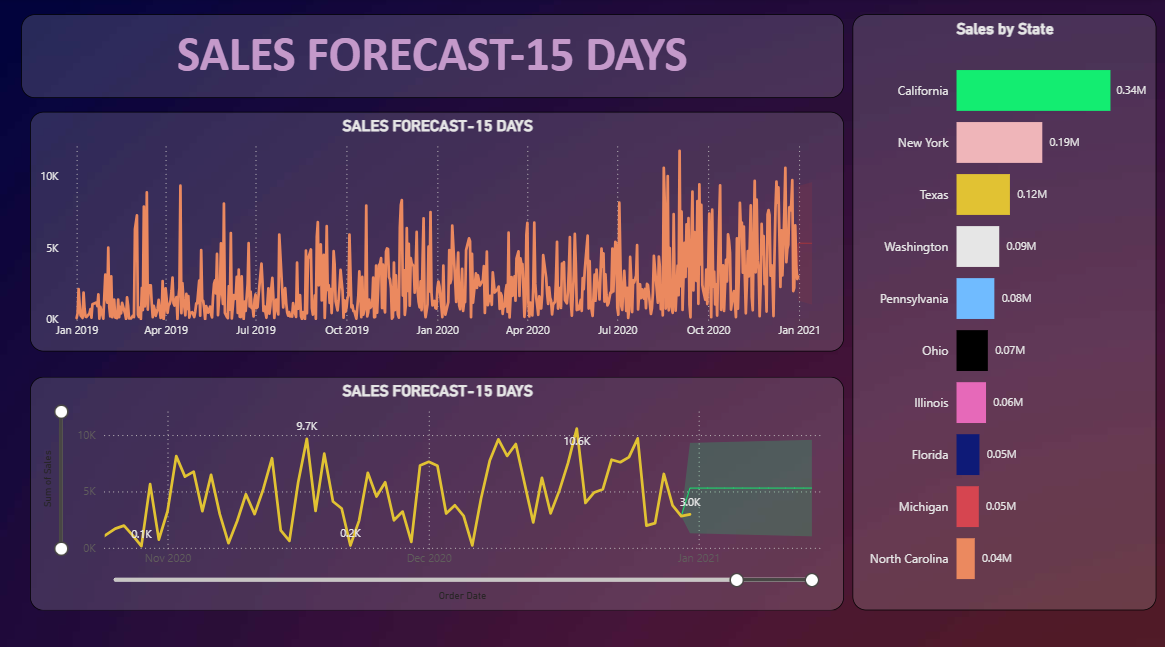

The dashboard page shown, as its layout file describes it:
{"tool":"powerbi","page":{"name":"Page 2","canvas":[1280,720],"ordinal":1},"visuals":[{"type":"lineChart","title":"SALES FORECAST-15 DAYS","fields":{"Y":["Sum(SuperStore_Sales_Dataset.Sales)"],"Category":["SuperStore_Sales_Dataset.Order Date"]},"box":[32.9,124.9,893.3,263.5],"z":0},{"type":"lineChart","title":"SALES FORECAST-15 DAYS","fields":{"Y":["Sum(SuperStore_Sales_Dataset.Sales)"],"Category":["SuperStore_Sales_Dataset.Order Date"]},"box":[32.9,415.8,893.3,256.6],"z":1000},{"type":"clusteredBarChart","title":"Sales by State","fields":{"Y":["Sum(SuperStore_Sales_Dataset.Sales)"],"Category":["SuperStore_Sales_Dataset.State"]},"box":[935.9,17.8,333.4,654.5],"z":2000},{"type":"textbox","box":[23.3,17.8,902.9,91.9],"z":3000}]}

Visuals, with their boxes in screenshot pixels (x1, y1, x2, y2), scaled from the page's 1280x720 canvas onto the 1165x647 screenshot:
"SALES FORECAST-15 DAYS" lineChart: (30, 112, 843, 349)
"SALES FORECAST-15 DAYS" lineChart: (30, 374, 843, 604)
"Sales by State" clusteredBarChart: (852, 16, 1155, 604)
textbox: (21, 16, 843, 99)
